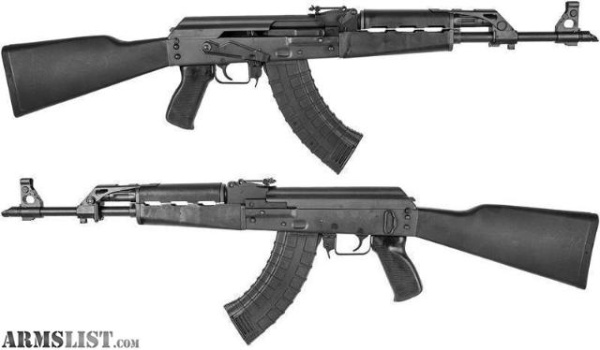ak47: (5, 3, 598, 175), (3, 179, 596, 320)
